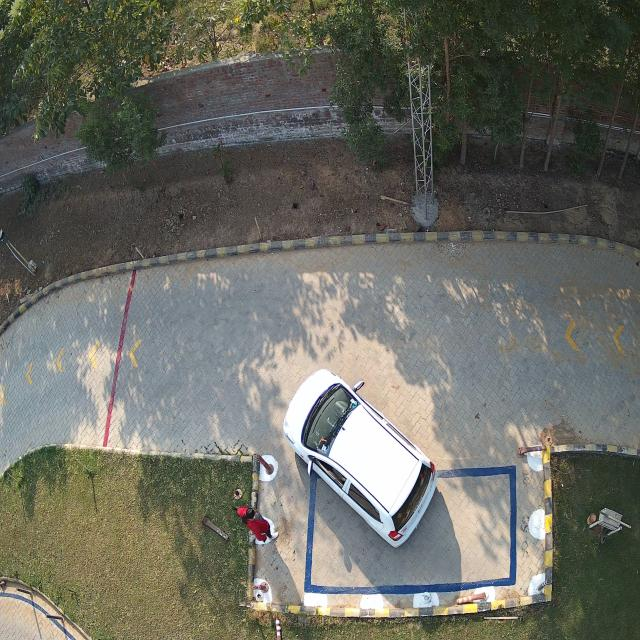car: (282, 370, 438, 547)
